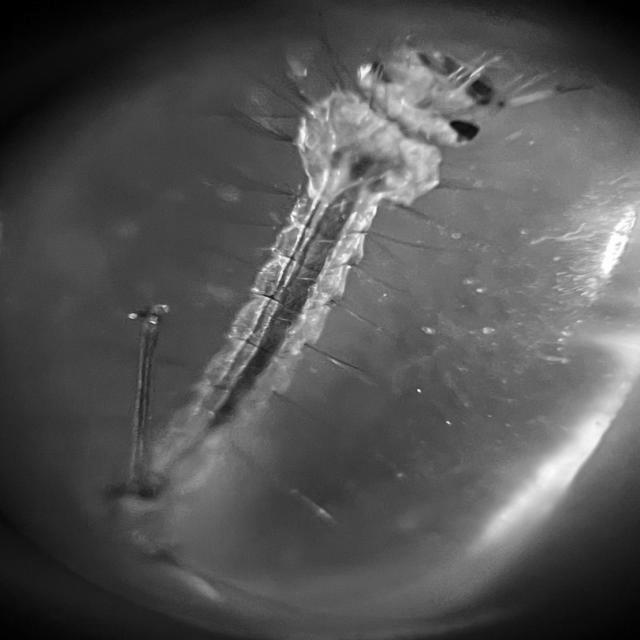larvas: (138, 36, 498, 512)
